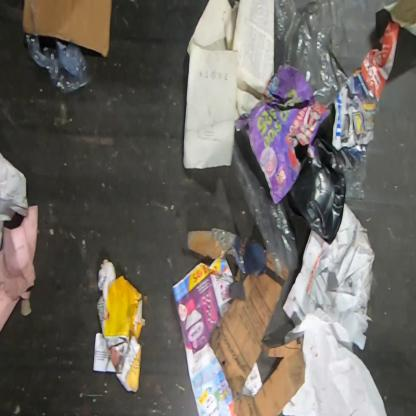cardboard: (208, 274, 306, 415), (93, 258, 146, 392), (21, 0, 112, 59), (187, 226, 277, 284)
rigid_plastic: (286, 142, 347, 246), (24, 33, 92, 95)
soft_plastic: (232, 128, 312, 277), (274, 0, 349, 108), (336, 150, 370, 201)
